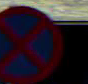No Stopping: (1, 6, 64, 83)
